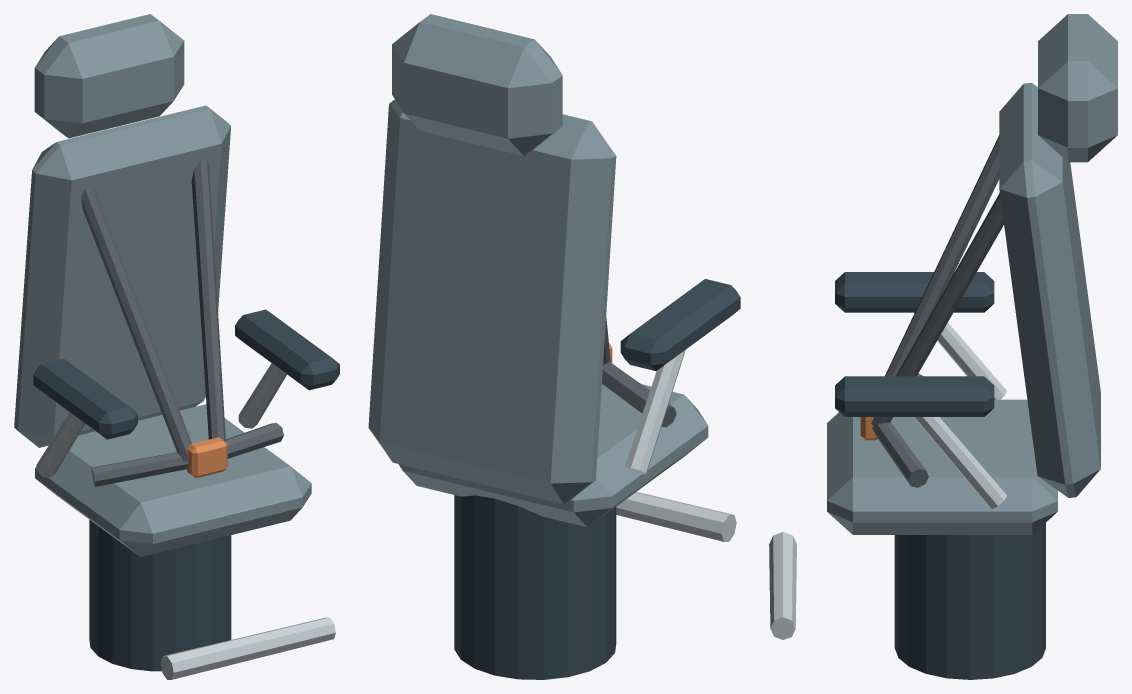
3 views of the same model, side by side, from view 1: azimuth 30°, elevation 25°; view 2: azimuth 150°, elevation 25°; view 3: azimuth 270°, elevation 25° (orthographic). The views are drawn at different scales.
Visible parts, largest first — view 1: RI-002 Four-point restraint crew seat batched; view 2: RI-002 Four-point restraint crew seat batched; view 3: RI-002 Four-point restraint crew seat batched.
Part boxes in pixels (box(x1,y1,x2,y2)): RI-002 Four-point restraint crew seat batched: box(14, 14, 339, 679); RI-002 Four-point restraint crew seat batched: box(368, 14, 740, 679); RI-002 Four-point restraint crew seat batched: box(769, 14, 1117, 679).
Bounding box in the file's own units: 0.74 × 1.69 × 0.875.
